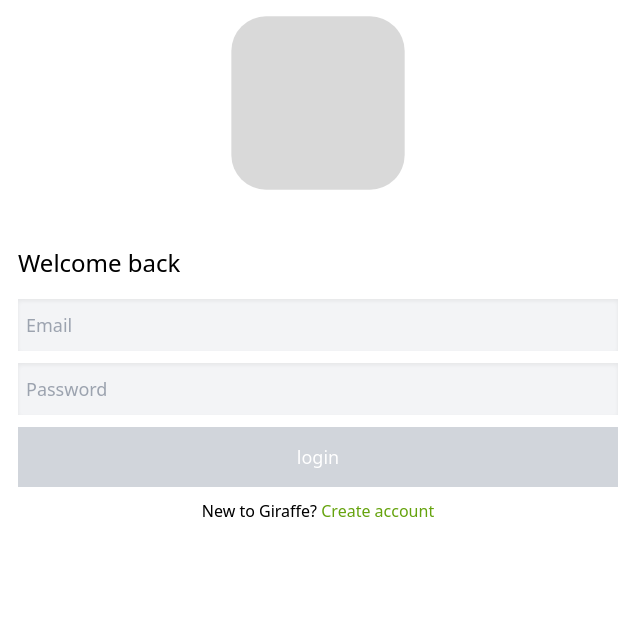
Test: Create Account › should see validate error
This screenshot has width=637, height=636.
Click the link "Create account": (378, 511) [321, 500, 434, 522]
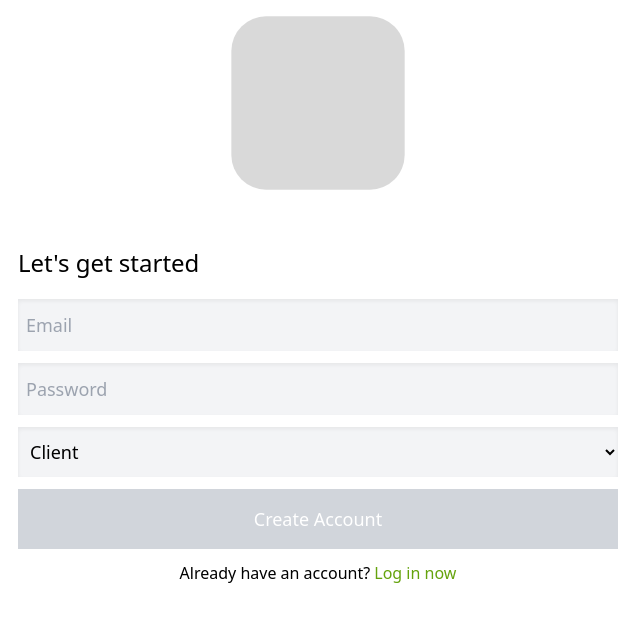
Open "/create-account"
In the field with placeholder "Email": (318, 325) [18, 299, 618, 351], type "bad@email"
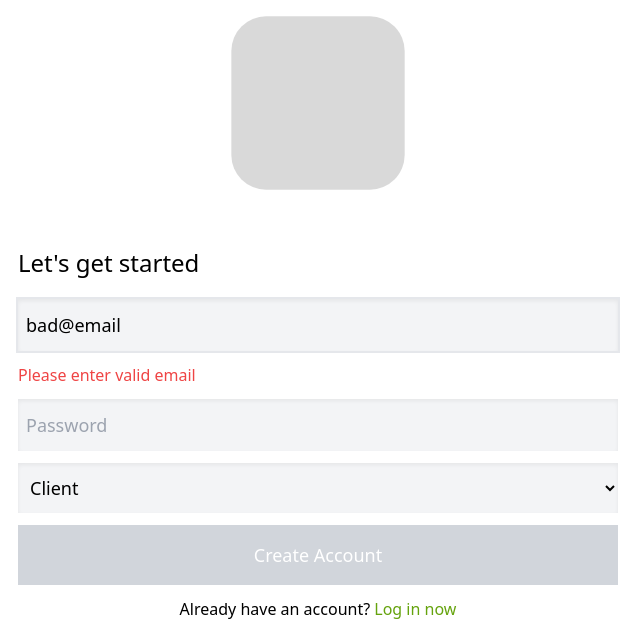
Now the message reads "Please enter valid email", box [18, 364, 196, 386]
Clear the field with placeholder "Email": (318, 325) [18, 299, 618, 351]
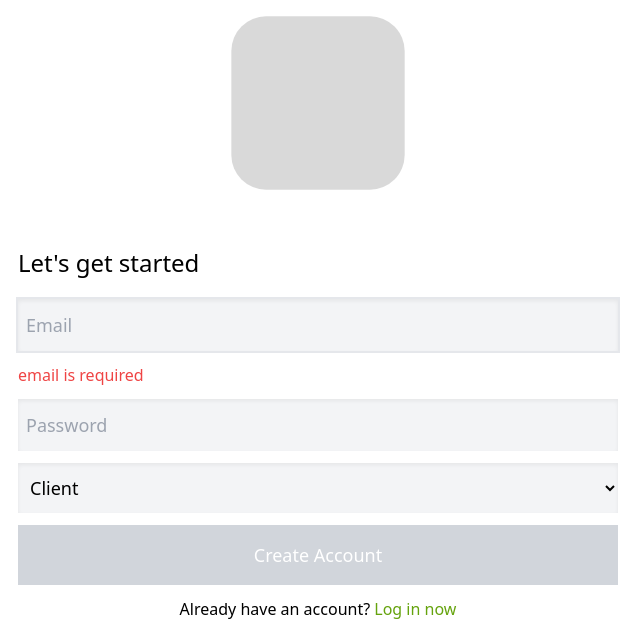
Now the message reads "email is required", box [18, 364, 144, 386]
In the field with placeholder "Email": (318, 325) [18, 299, 618, 351], type "bad@email.com"
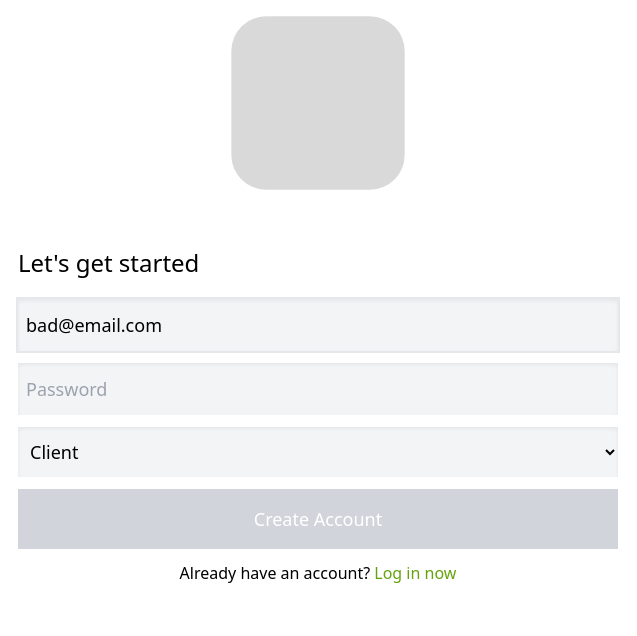
In the password field with placeholder "Password": (318, 389) [18, 363, 618, 415], type "a"
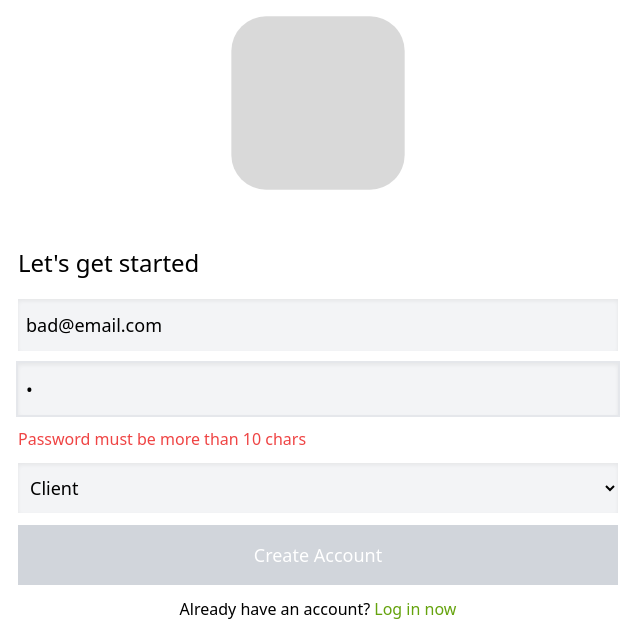
Clear the password field with placeholder "Password": (318, 389) [18, 363, 618, 415]
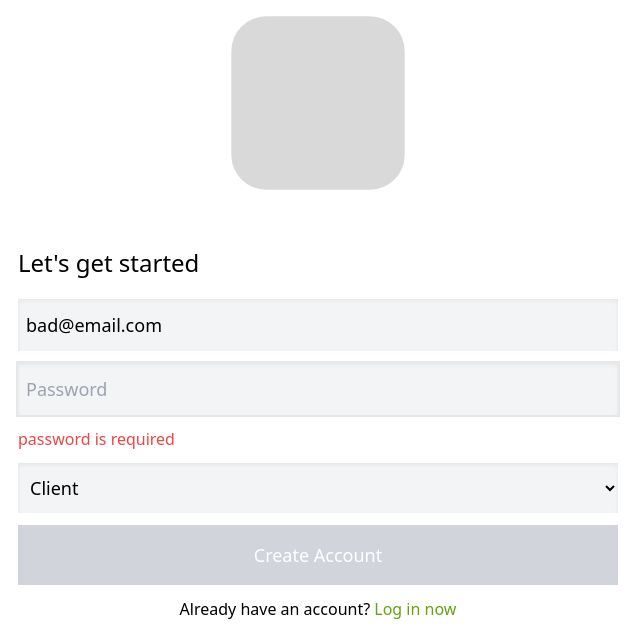
Now the message reads "password is required", box [18, 428, 175, 450]
